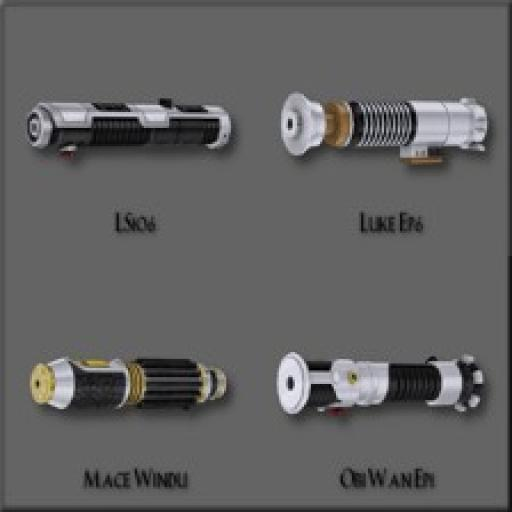lightsaber: (21, 88, 242, 177), (265, 348, 493, 424), (280, 90, 494, 168), (25, 356, 229, 421)
